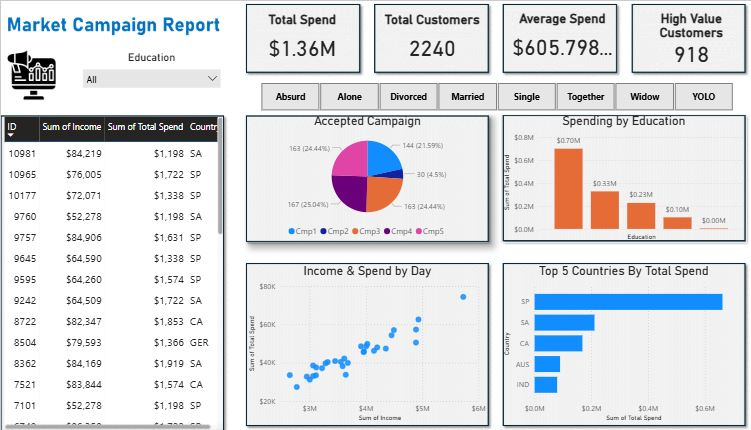

Layout of this report page (visuals, bound fields, positions):
{"tool":"powerbi","page":{"name":"Report","canvas":[1280,720],"ordinal":0},"visuals":[{"type":"tableEx","fields":{"Values":["marketing_data.ID","Sum(marketing_data.Income)","Sum(marketing_data.Total Spend)","marketing_data.Country"]},"box":[0,188.8,374.7,530.6],"z":1},{"type":"columnChart","title":"Spending by Education","fields":{"Category":["marketing_data.Education"],"Y":["Sum(marketing_data.Total Spend)"]},"box":[833.8,188.8,409,214.5],"z":2},{"type":"barChart","title":"Top 5 Countries By Total Spend ","fields":{"Category":["marketing_data.Country"],"Y":["Sum(marketing_data.Total Spend)"]},"box":[833.8,437.6,409,267.4],"z":3},{"type":"pieChart","title":"Accepted Campaign","fields":{"Y":["Sum(marketing_data.AcceptedCmp1)","Sum(marketing_data.AcceptedCmp2)","Sum(marketing_data.AcceptedCmp3)","Sum(marketing_data.AcceptedCmp4)","Sum(marketing_data.AcceptedCmp5)"]},"box":[407.6,188.8,404.7,214.5],"z":4},{"type":"scatterChart","title":"Income & Spend by Day","fields":{"X":["Sum(marketing_data.Income)"],"Y":["Sum(marketing_data.Total Spend)"],"Category":["marketing_data.Dt_Customer.Variation.Date Hierarchy.Day"]},"box":[407.6,437.6,404.7,267.4],"z":5},{"type":"card","title":"Total Spend","fields":{"Values":["Sum(marketing_data.Total Spend)"]},"box":[407.5,17.5,187.5,90],"z":6},{"type":"card","title":"Total Customers","fields":{"Values":["CountNonNull(marketing_data.ID)"]},"box":[625,17.5,187.5,90],"z":9},{"type":"card","title":"Average Spend","fields":{"Values":["Avg(marketing_data.Average spend)"]},"box":[843.8,17.2,184.5,90.1],"z":10},{"type":"card","title":"High Value Customers","fields":{"Values":["CountNonNull(marketing_data.High_Value_Customer)"]},"box":[1058.3,17.2,184.5,90.1],"z":11},{"type":"image","box":[0,72.9,103,100.1],"z":12},{"type":"slicer","fields":{"Values":["marketing_data.Marital_Status"]},"box":[407.6,130.1,835.2,58.6],"z":13},{"type":"slicer","title":"Education","fields":{"Values":["marketing_data.Education"]},"box":[125.9,82.9,248.8,77.2],"z":14}]}

Visuals, with their boxes in screenshot pixels (x1, y1, x2, y2), scaled from the page's 1280x720 canvas onto the 751x430 screenshot:
tableEx - marketing_data.ID x Sum(marketing_data.Income): x1=0, y1=113, x2=220, y2=429
"Spending by Education" columnChart: x1=489, y1=113, x2=729, y2=241
"Top 5 Countries By Total Spend " barChart: x1=489, y1=261, x2=729, y2=421
"Accepted Campaign" pieChart: x1=239, y1=113, x2=477, y2=241
"Income & Spend by Day" scatterChart: x1=239, y1=261, x2=477, y2=421
"Total Spend" card: x1=239, y1=10, x2=349, y2=64
"Total Customers" card: x1=367, y1=10, x2=477, y2=64
"Average Spend" card: x1=495, y1=10, x2=603, y2=64
"High Value Customers" card: x1=621, y1=10, x2=729, y2=64
image: x1=0, y1=44, x2=60, y2=103
slicer - marketing_data.Marital_Status: x1=239, y1=78, x2=729, y2=113
"Education" slicer: x1=74, y1=50, x2=220, y2=96
